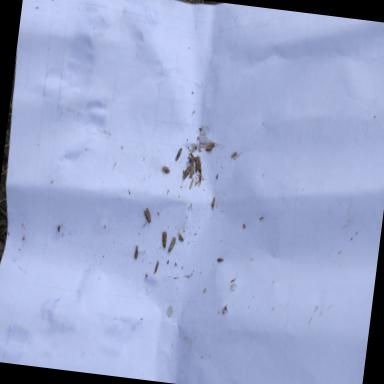pbw: (141, 207, 153, 224), (180, 164, 190, 184), (168, 233, 178, 252), (186, 152, 201, 164), (196, 154, 204, 173), (160, 230, 168, 248), (174, 146, 182, 162), (189, 160, 195, 178), (134, 244, 140, 258), (161, 164, 170, 172), (177, 231, 184, 241), (194, 158, 199, 172), (154, 259, 158, 273), (204, 144, 212, 151), (231, 150, 237, 158)
